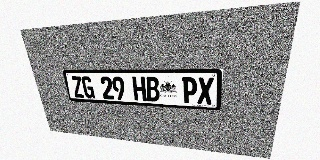2: (100, 76, 114, 99)
9: (111, 76, 126, 100)
B: (145, 77, 160, 102)
G: (81, 76, 95, 98)
H: (132, 77, 147, 101)
P: (182, 77, 197, 104)
X: (197, 77, 214, 104)
Z: (70, 76, 85, 98)
